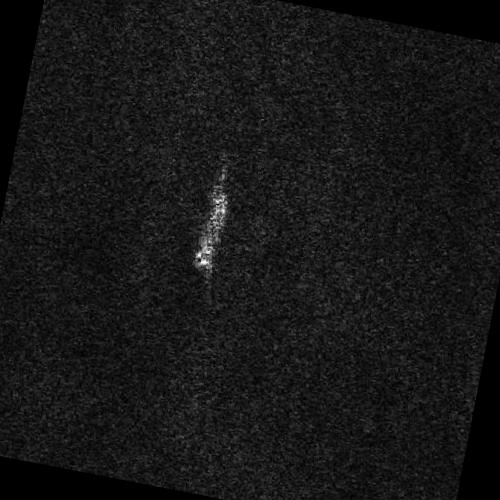ship: (193, 187, 230, 275)
